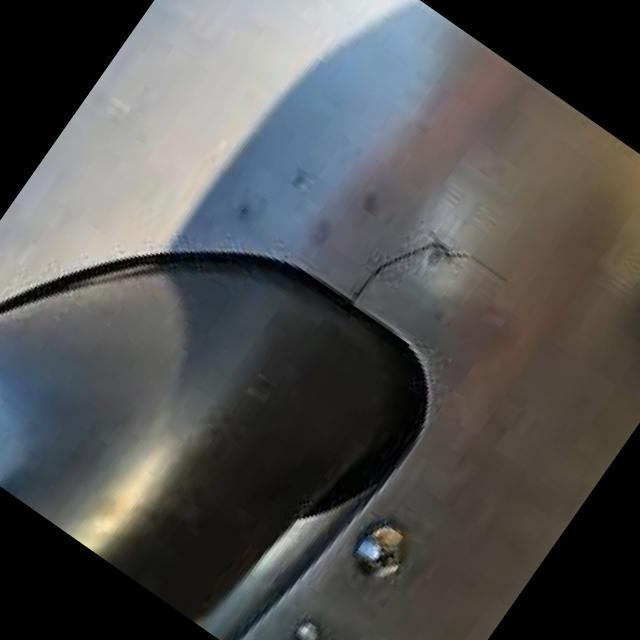defect: (344, 234, 512, 308)
